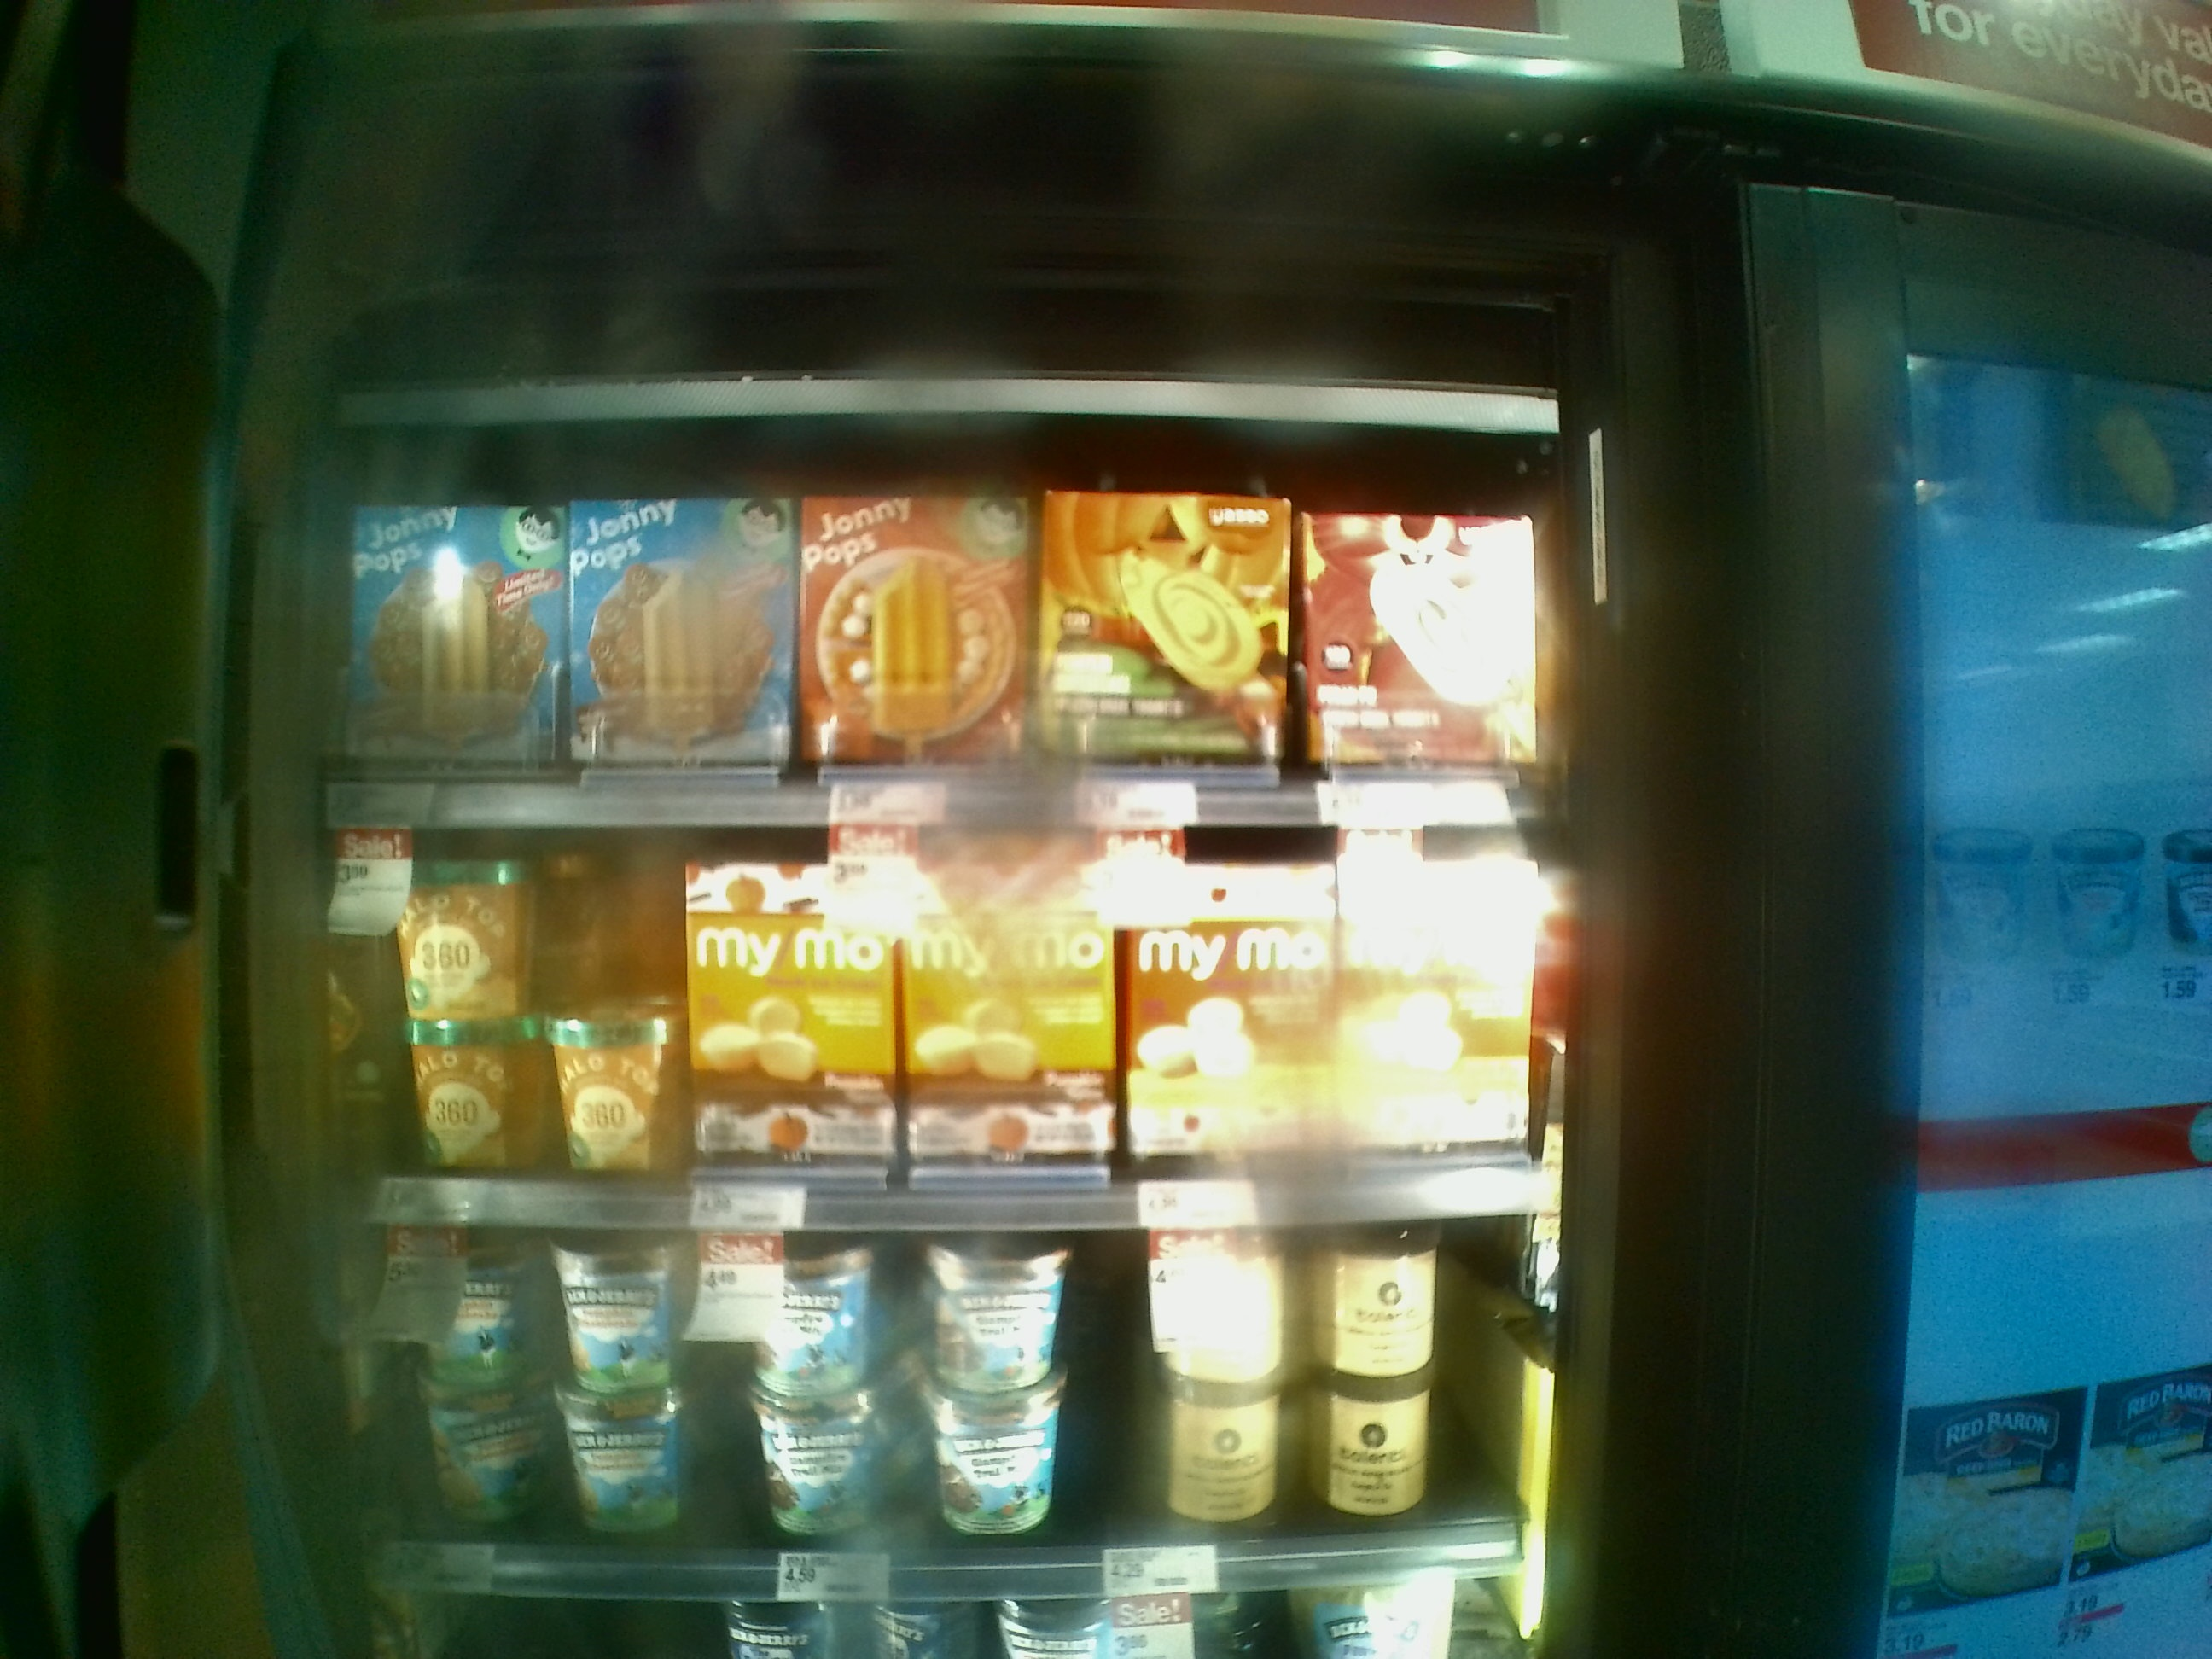shelf: (307, 798, 1578, 1220), (314, 432, 1576, 833), (286, 1192, 1559, 1586)
